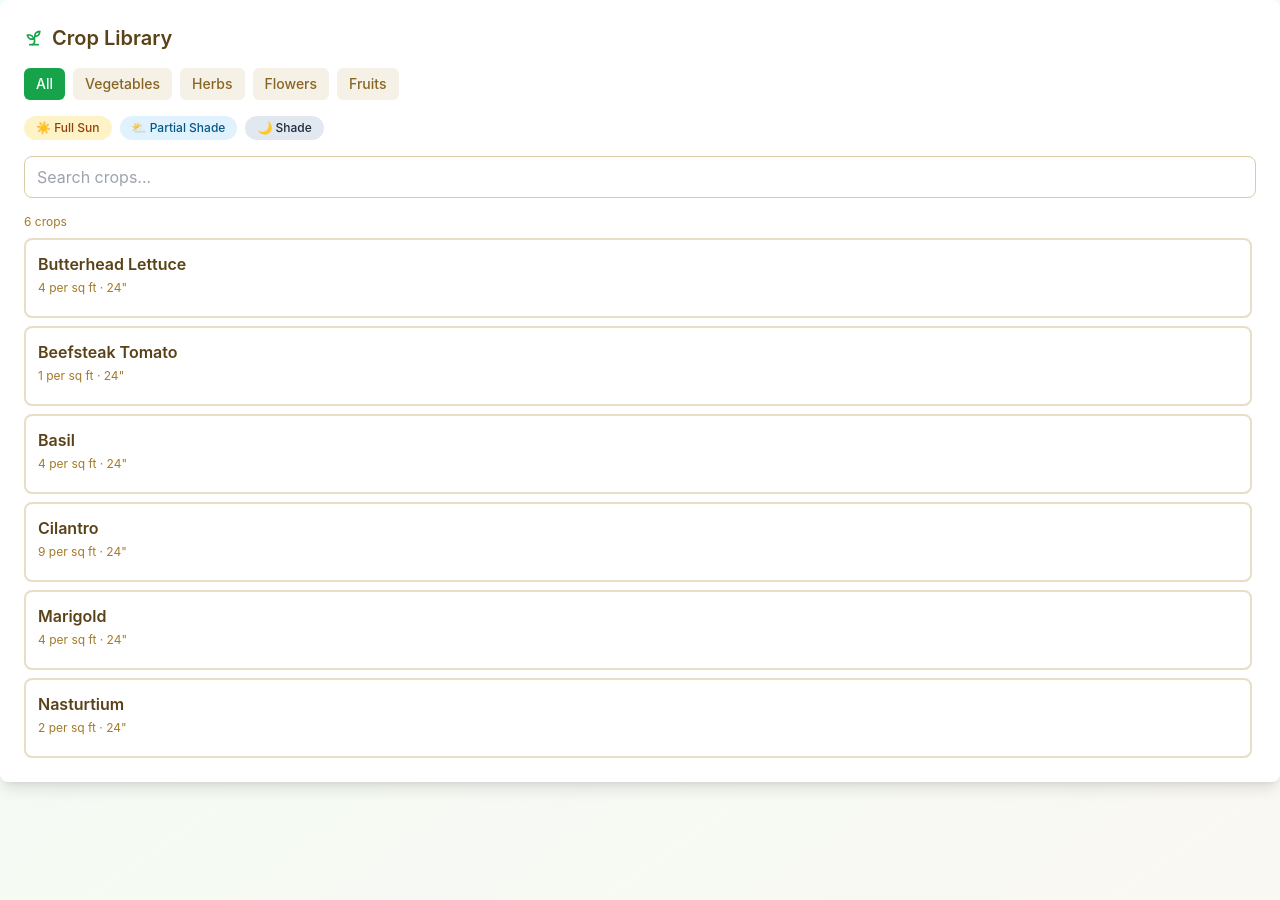
Test case: CropLibrary › Category Tabs (TODO-028) › shows only vegetables when "Vegetables" tab is clicked
The width and height of the screenshot is (1280, 900).
Click the button "Vegetables" at (122, 84), box x1=73 y1=68 x2=172 y2=100
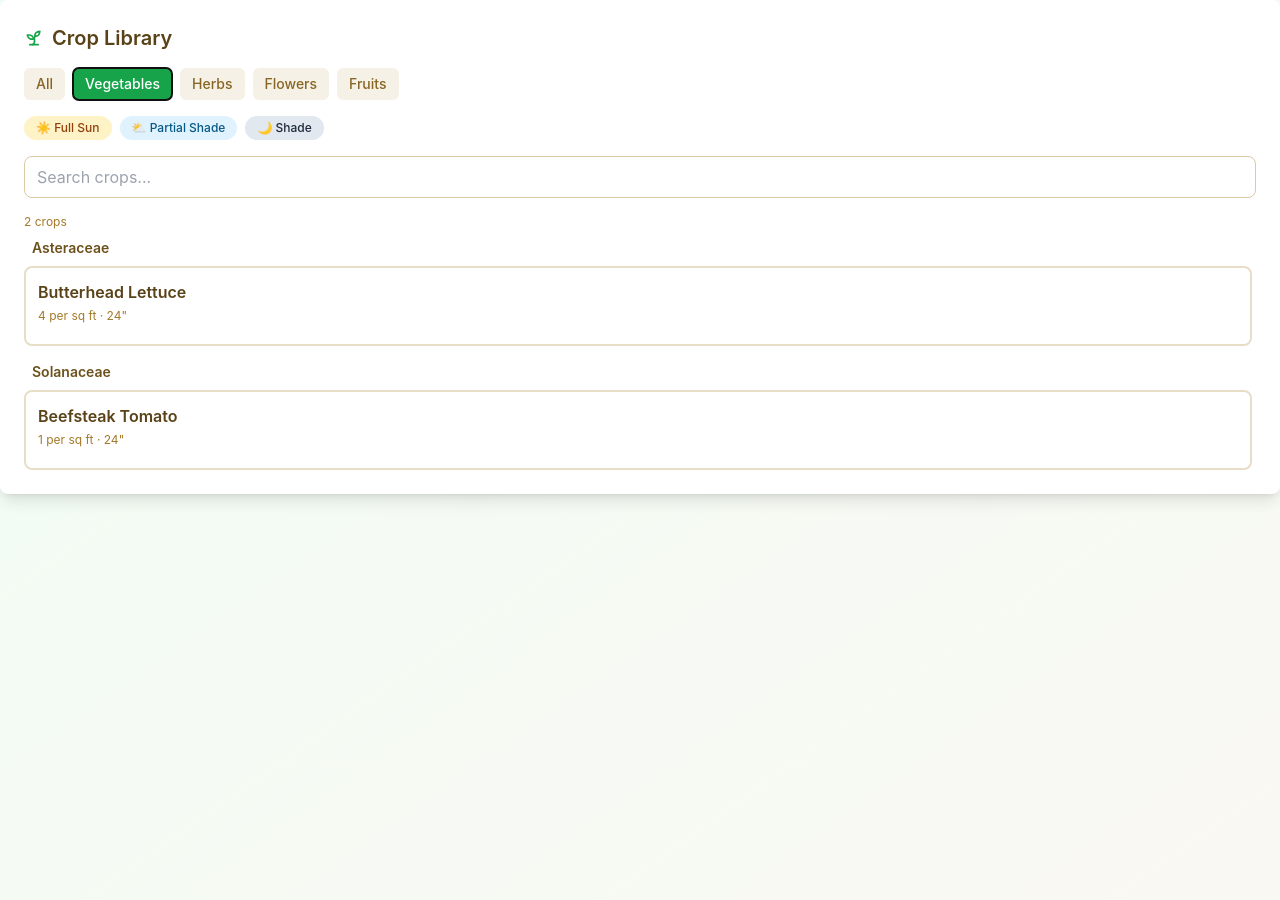
Check: the button "Basil" is gone
Check: the button "Cilantro" is gone
Check: the button "Marigold" is gone
